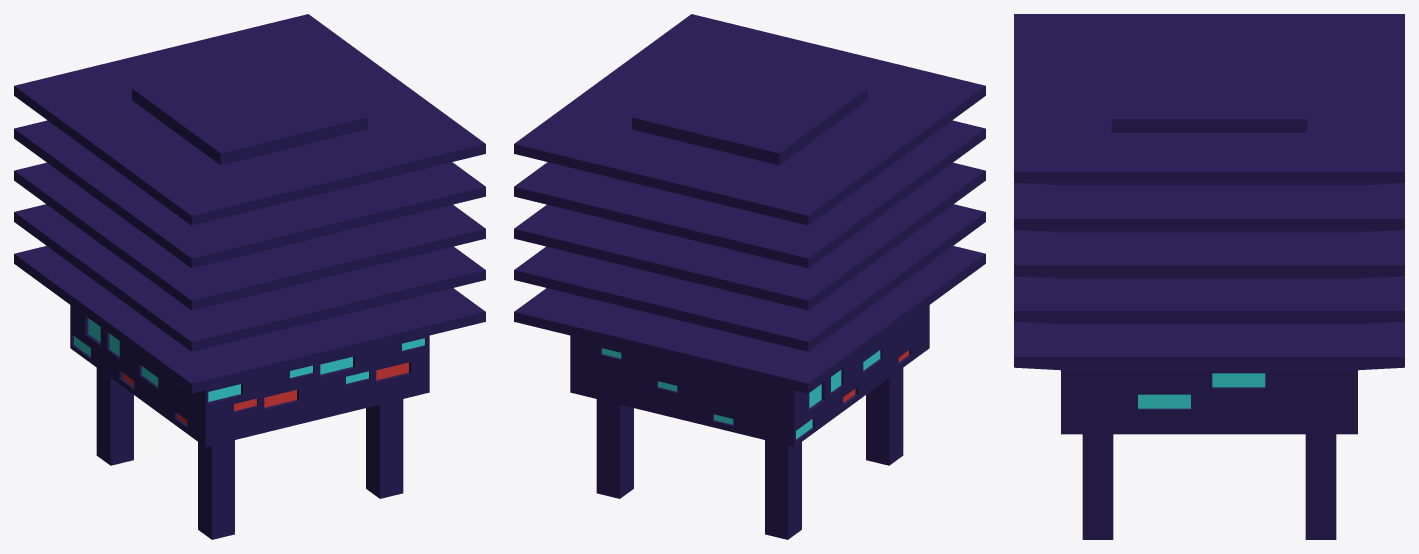
Rendered from Building.fbx.
3 views of the same model, side by side, from view 1: azimuth 30°, elevation 25°; view 2: azimuth 150°, elevation 25°; view 3: azimuth 270°, elevation 25° (orthographic). The views are drawn at different scales.
Parts seen in each view (by area): view 1: Cube; view 2: Cube; view 3: Cube.
Boxes of the visible parts, x1,y1,x2,y2 form: Cube: (14, 14, 485, 539); Cube: (514, 14, 985, 539); Cube: (1014, 14, 1404, 539).
Bounding box in the file's own units: 793 × 956 × 828.
